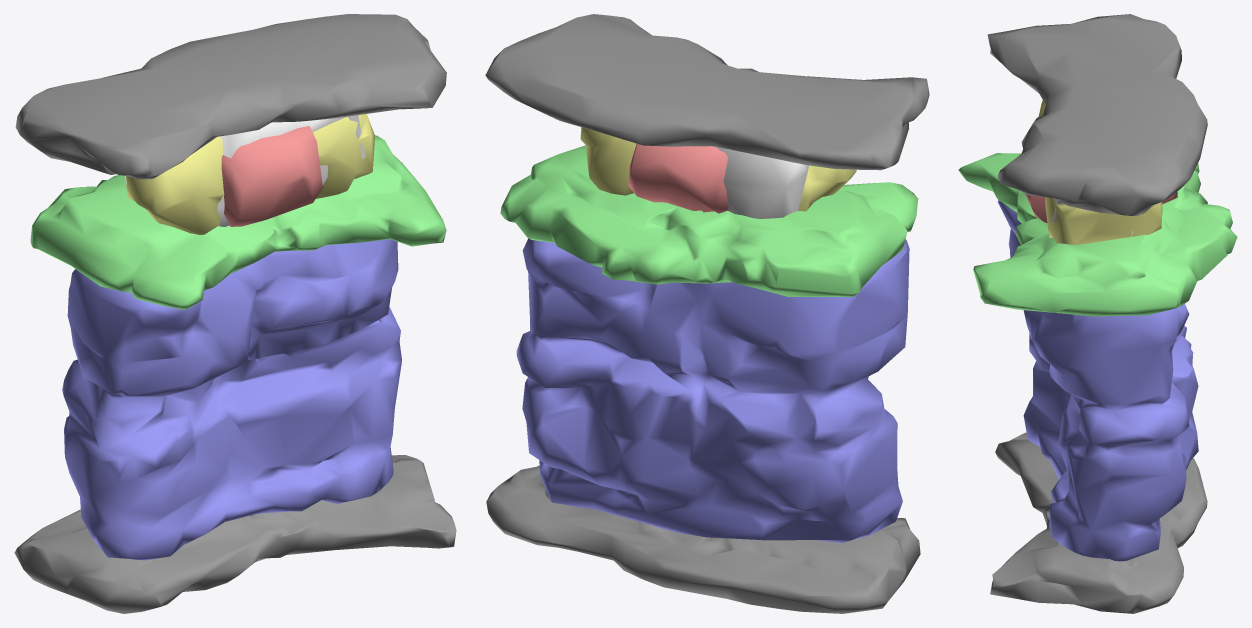
Rendered from SM_MERGEDCliff23.gltf.
3 views of the same model, side by side, from view 1: azimuth 30°, elevation 25°; view 2: azimuth 150°, elevation 25°; view 3: azimuth 270°, elevation 25° (orthographic). The views are drawn at different scales.
Parts seen in each view (by area): view 1: SM_MERGEDCliff23; view 2: SM_MERGEDCliff23; view 3: SM_MERGEDCliff23.
Part boxes in pixels (left/top/right/bottom): SM_MERGEDCliff23: left=14, top=14, right=456, bottom=613; SM_MERGEDCliff23: left=485, top=14, right=929, bottom=613; SM_MERGEDCliff23: left=958, top=14, right=1237, bottom=613.
Size of the model in its own units: 18.23 by 20.92 by 12.
